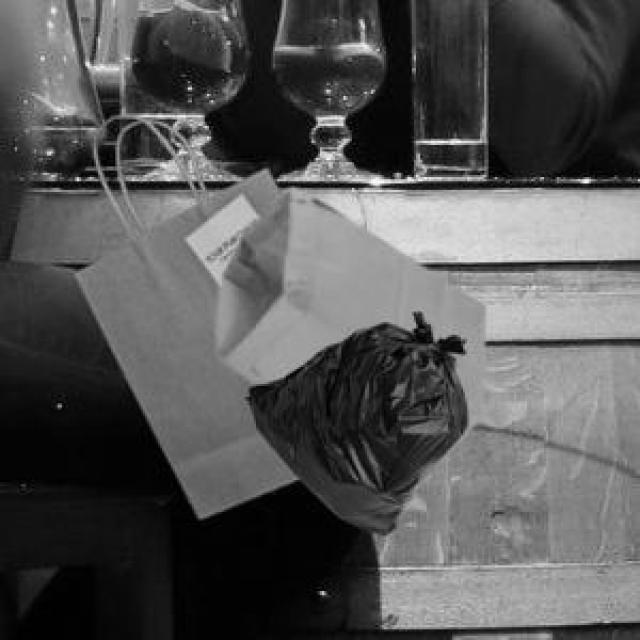miscellaneous trash: (243, 309, 463, 531)
paper: (73, 113, 294, 514), (213, 184, 480, 431)
